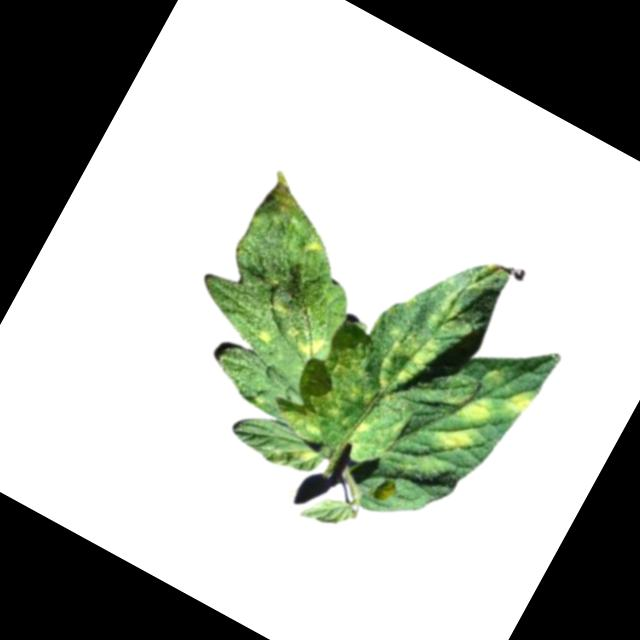Leaf_Mold: (271, 319, 394, 456), (359, 311, 446, 405), (422, 375, 498, 462), (417, 276, 484, 345), (251, 166, 315, 233), (278, 318, 327, 363), (504, 382, 541, 422), (299, 228, 326, 259), (252, 320, 280, 348)
